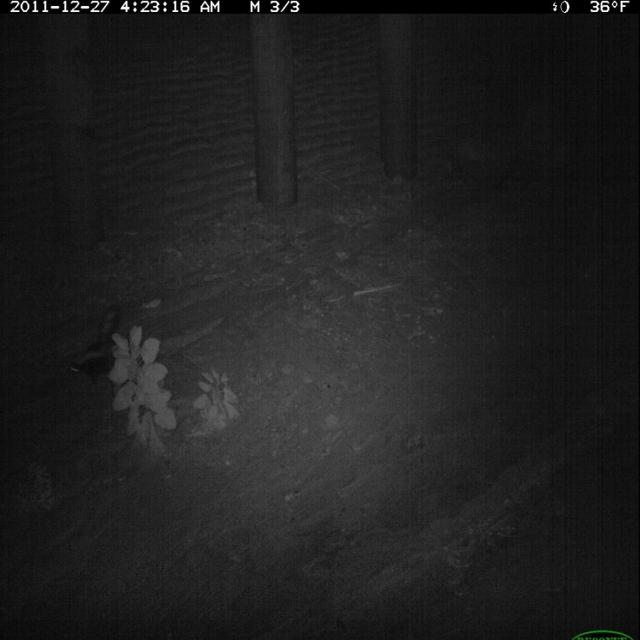skunk: (64, 298, 129, 401)
